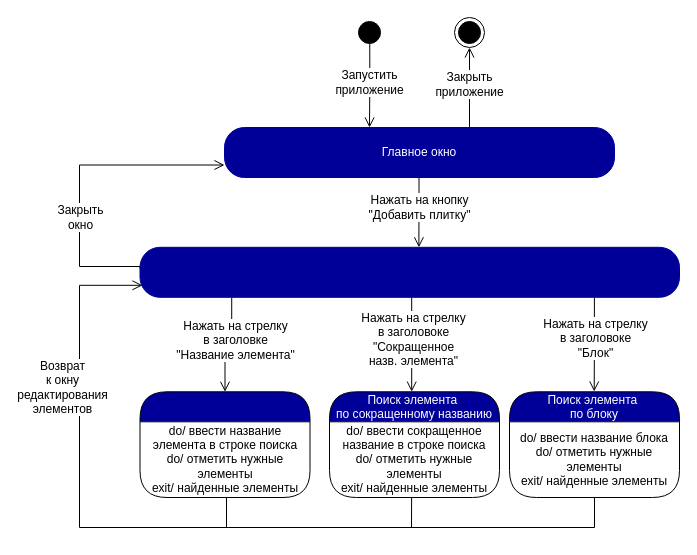
The diagram is 697 pixels wide and 555 high, and some of its shapes have lost their labels. The box of each missing label's shape, as (x1, y1, x2, y2) in pixels:
Окно редактирования элементов: (139, 246, 680, 297)
Поиск элемента по названию: (139, 391, 310, 498)
